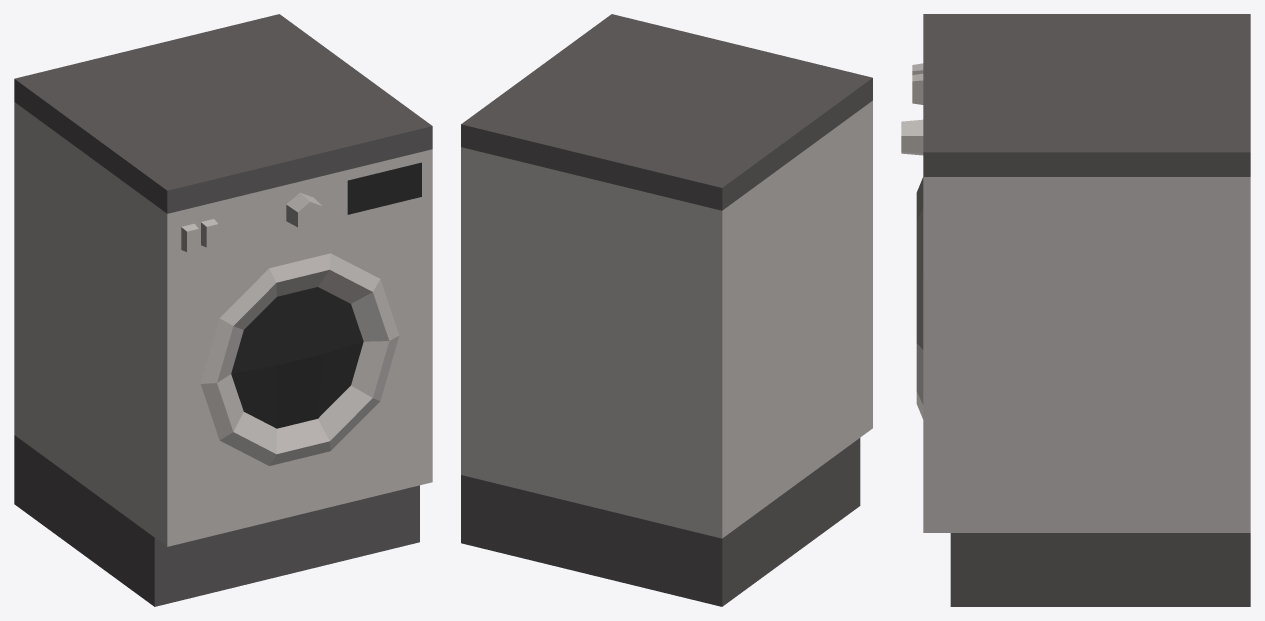
The model's file is dryer-outside.glb.
The picture shows the model from 3 angles, left to right: view 1: azimuth 30°, elevation 25°; view 2: azimuth 150°, elevation 25°; view 3: azimuth 270°, elevation 25°; orthographic projection. The views are drawn at different scales.
Parts seen in each view (by area): view 1: washing-machine; view 2: washing-machine; view 3: washing-machine.
Boxes of the visible parts, <box> form: washing-machine: <box>14,14,432,606</box>; washing-machine: <box>461,14,872,606</box>; washing-machine: <box>901,14,1250,606</box>.
Size of the model in its own units: 0.6001 by 0.92 by 0.64.
1 material, 1 textured.
